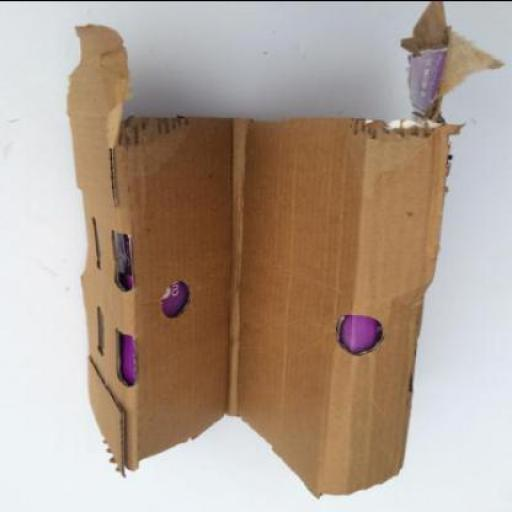cardboard: (65, 2, 501, 498), (233, 114, 464, 496), (67, 25, 231, 476)
